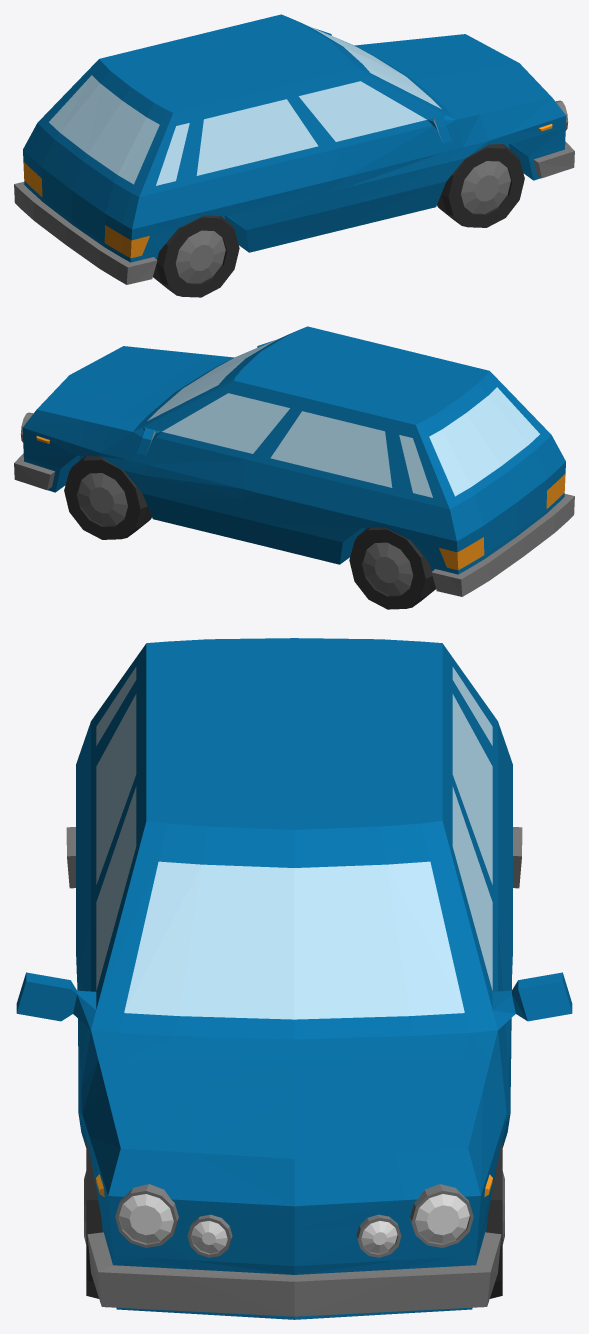
The model's file is Car.glb.
3 views of the same model, one above another, from view 1: azimuth 30°, elevation 25°; view 2: azimuth 150°, elevation 25°; view 3: azimuth 270°, elevation 25° (orthographic). The views are drawn at different scales.
Parts seen in each view (by area): view 1: Car; view 2: Car; view 3: Car.
Part boxes in pixels (box(x1,y1,x2,y2)): Car: box(14, 14, 574, 297); Car: box(14, 326, 574, 609); Car: box(16, 638, 572, 1319).
Size of the model in its own units: 5.32 by 1.93 by 2.72.
Materials: 1 (1 with a texture image).
